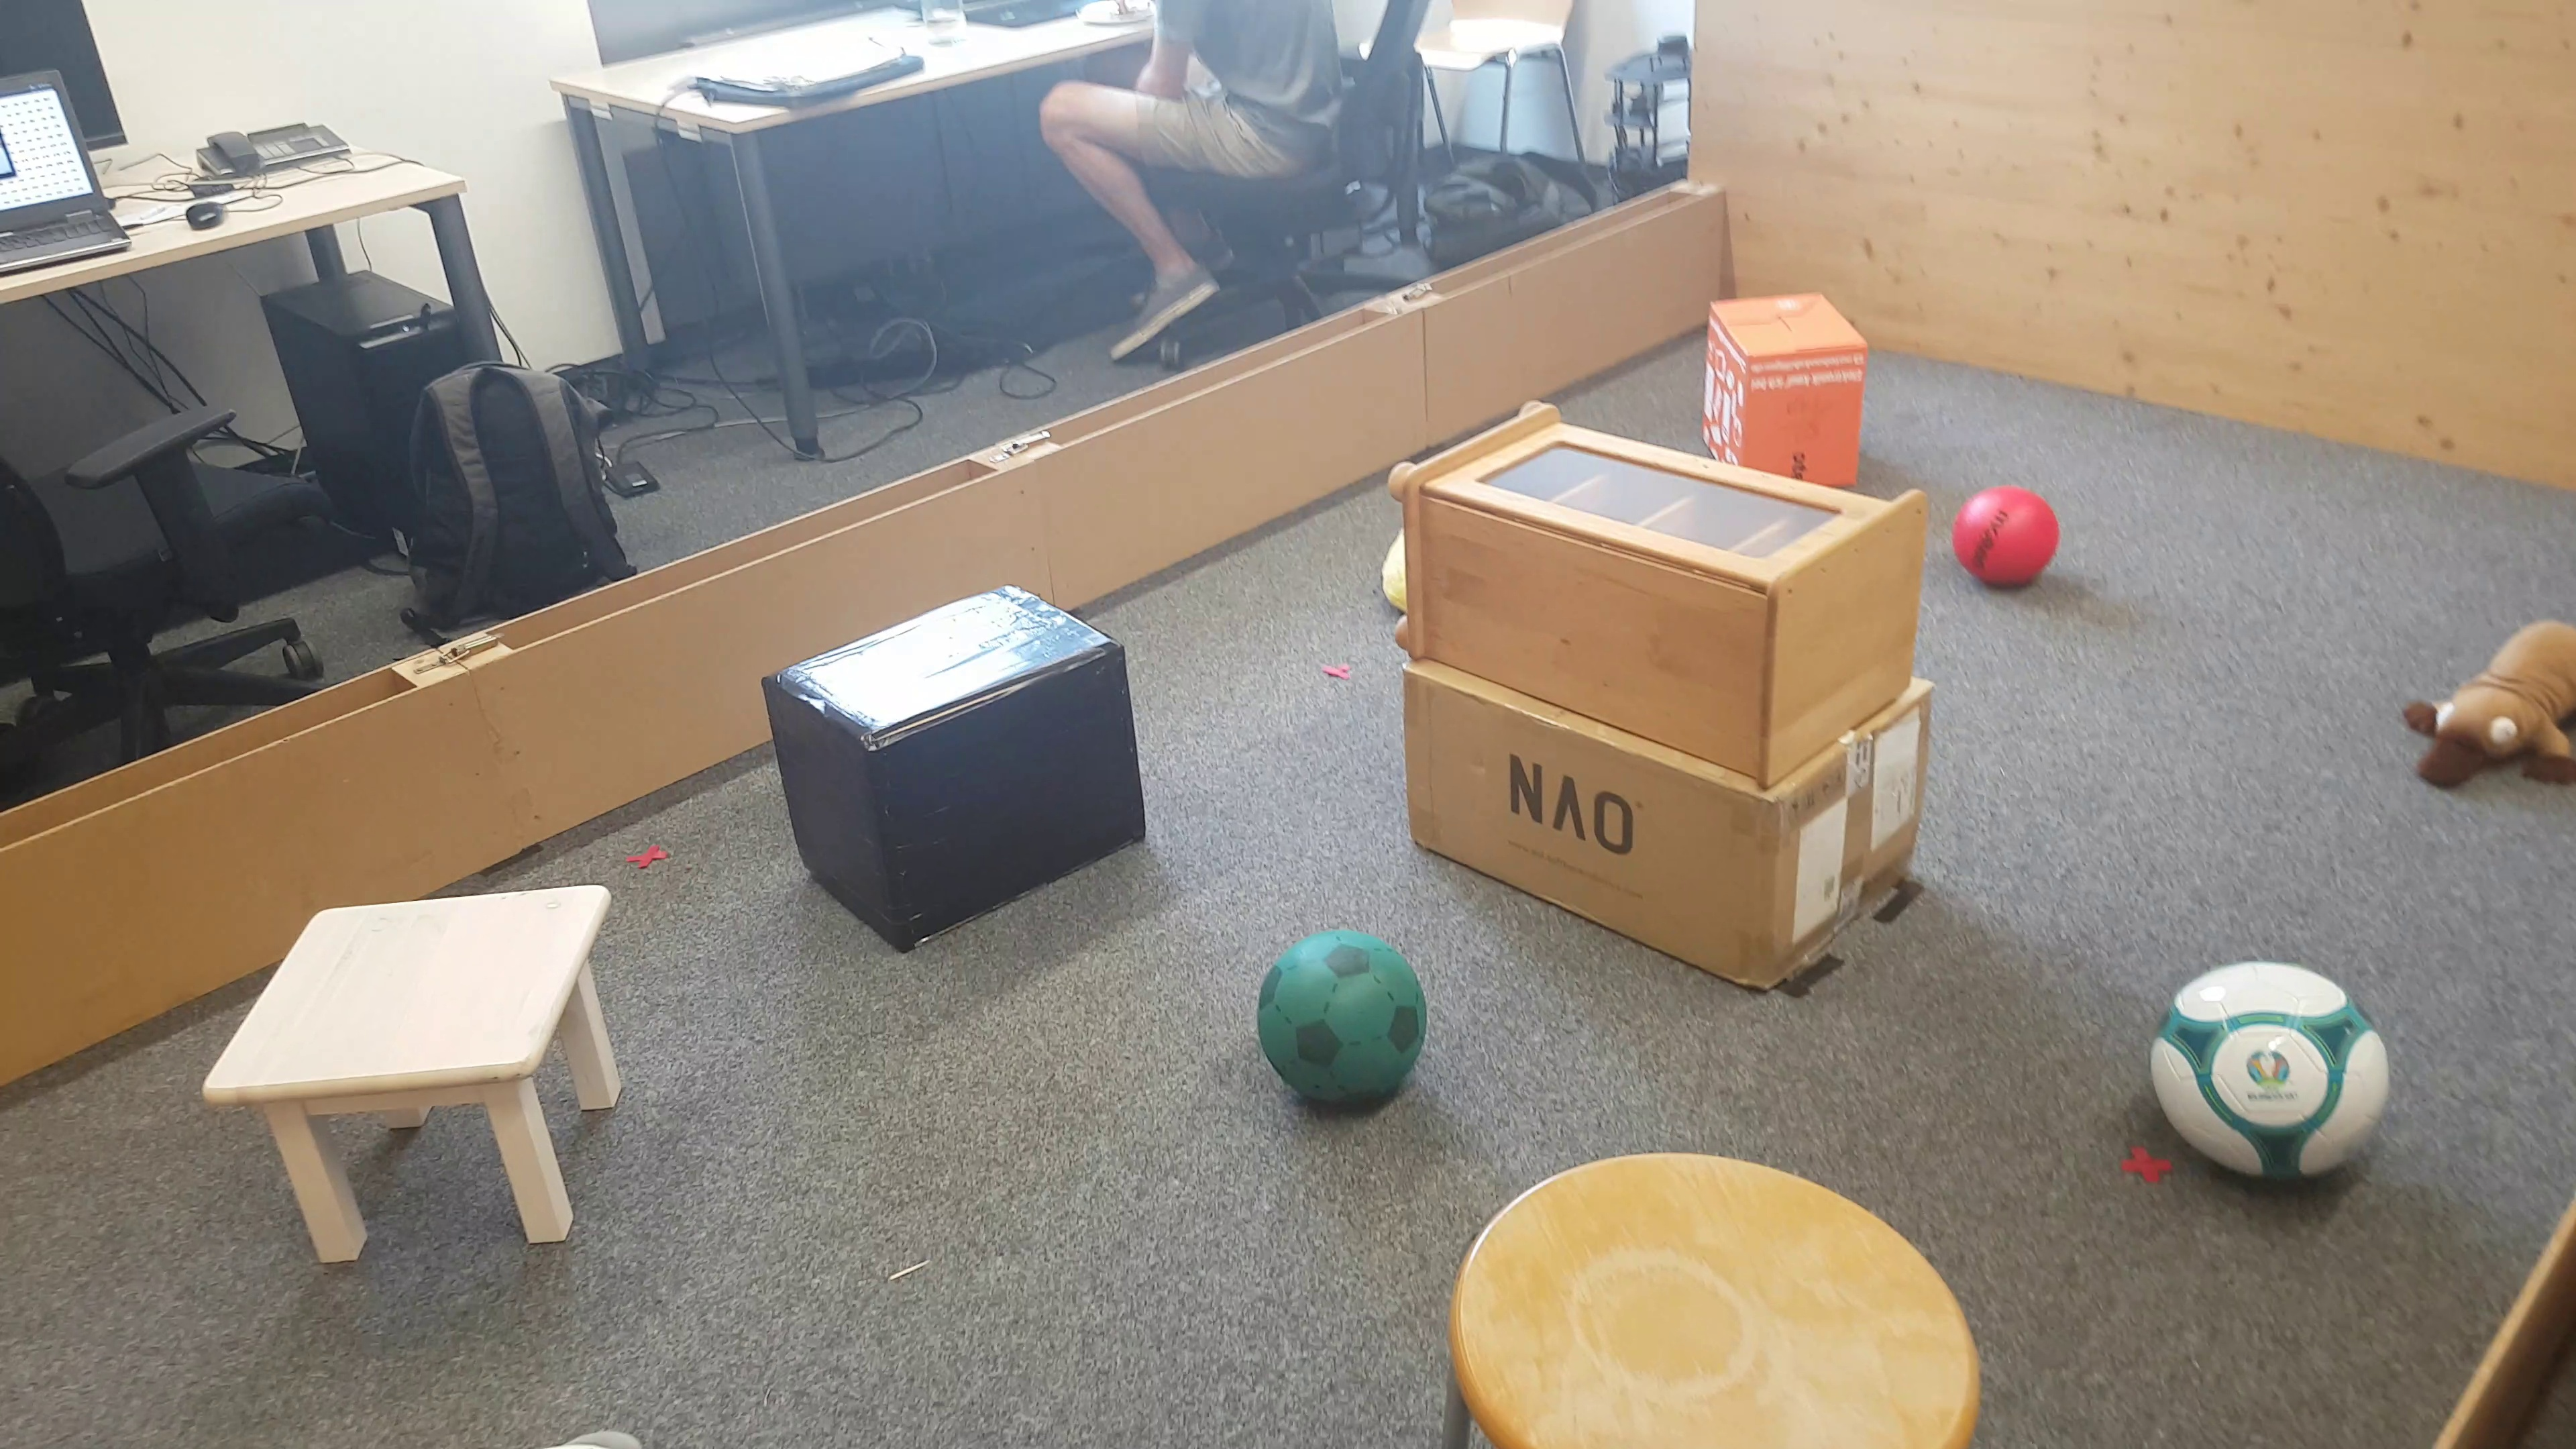grasp: (2410, 619, 2572, 801)
kick: (2151, 955, 2388, 1198), (1260, 938, 1421, 1116), (1953, 487, 2059, 591)
push: (764, 589, 1150, 955), (1702, 292, 1865, 464)
